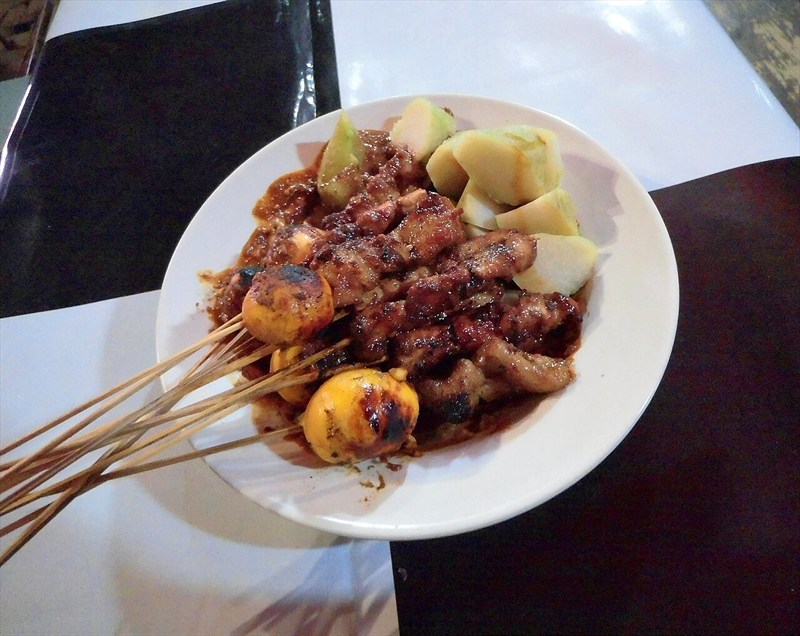Sate Ayam: (42, 52, 688, 542)
